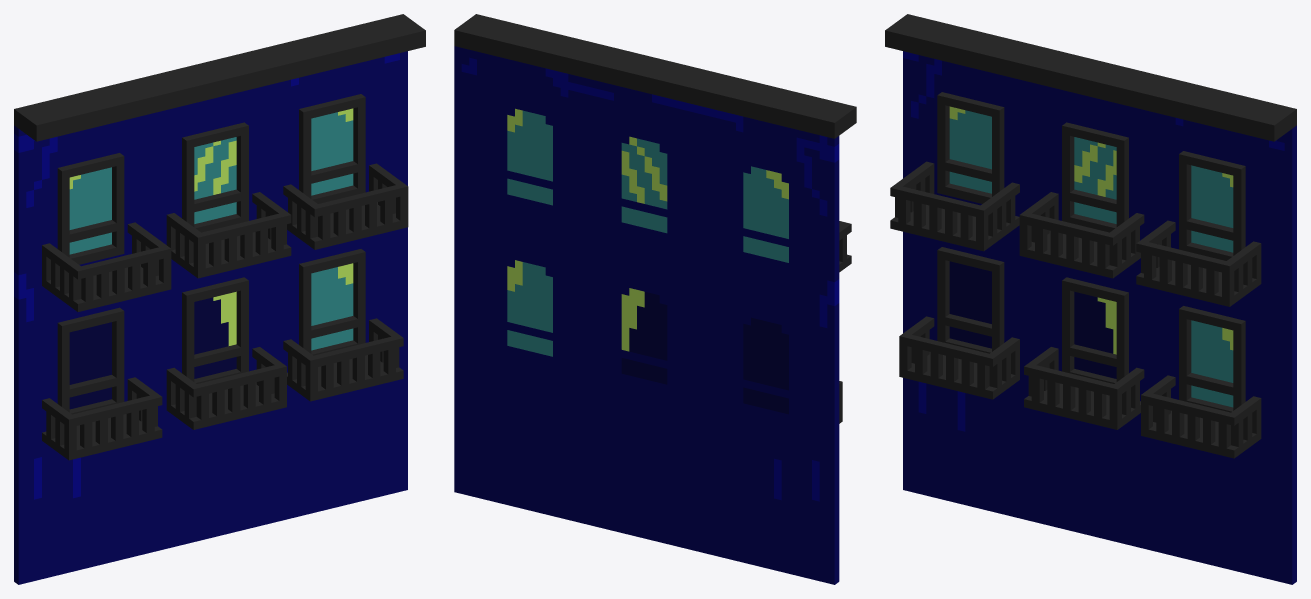
File: Walls-3.obj
3 renders of one model, left to right at view 1: azimuth 30°, elevation 25°; view 2: azimuth 150°, elevation 25°; view 3: azimuth 330°, elevation 25°, orthographic. The views are drawn at different scales.
Visible parts, largest first — view 1: Walls-3; view 2: Walls-3; view 3: Walls-3.
Part boxes in pixels (x1,y1,x2,y2): Walls-3: [14, 14, 425, 584]; Walls-3: [454, 14, 856, 584]; Walls-3: [885, 14, 1296, 584].
Bounding box in the file's own units: 50 × 58 × 9.
Materials: 1 (1 with a texture image).
